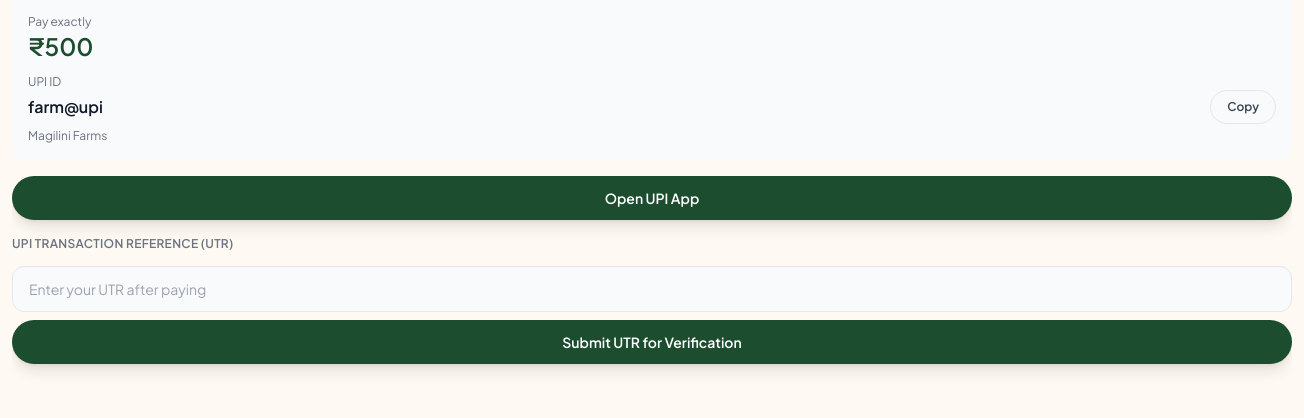
DirectUpiPayment › validates UTR locally and submits a valid reference once
Type "123" into the field labelled "UPI transaction reference (UTR)" at [652, 289], box x1=12 y1=266 x2=1292 y2=312
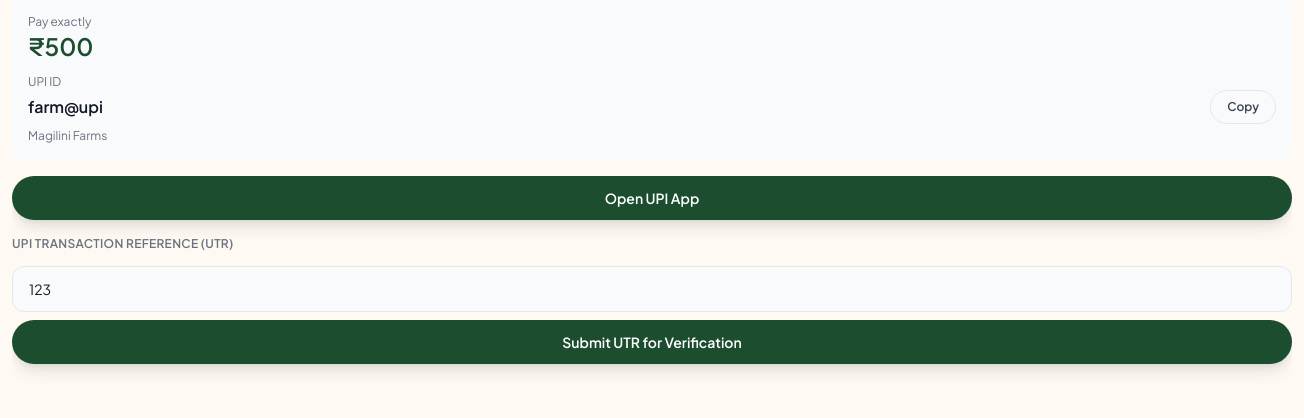
Submit the form, box x1=12 y1=236 x2=1292 y2=364
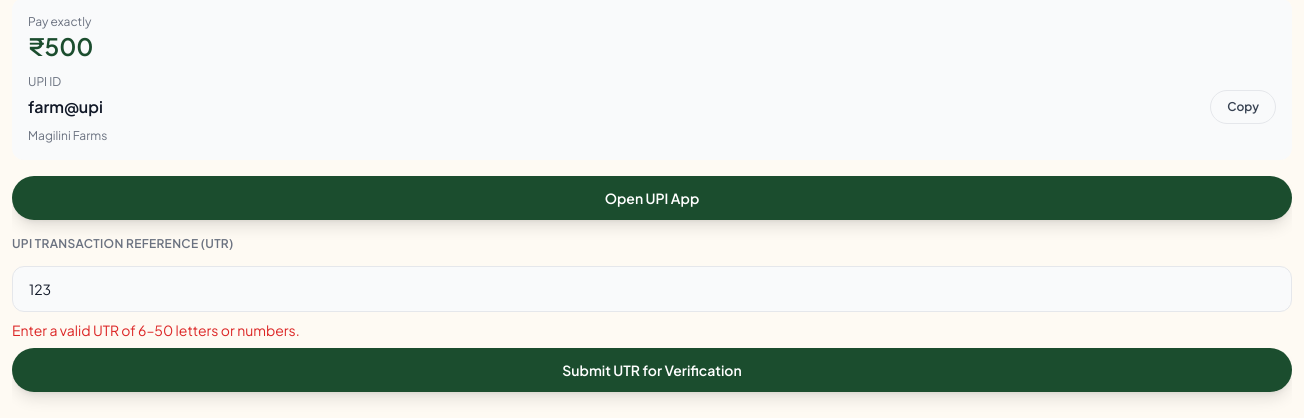
Now the text "valid UTR" is shown, box x1=12 y1=321 x2=300 y2=339
Replace the text in the field labelled "UPI transaction reference (UTR)" with "ABC-12345" at [652, 289], box x1=12 y1=266 x2=1292 y2=312
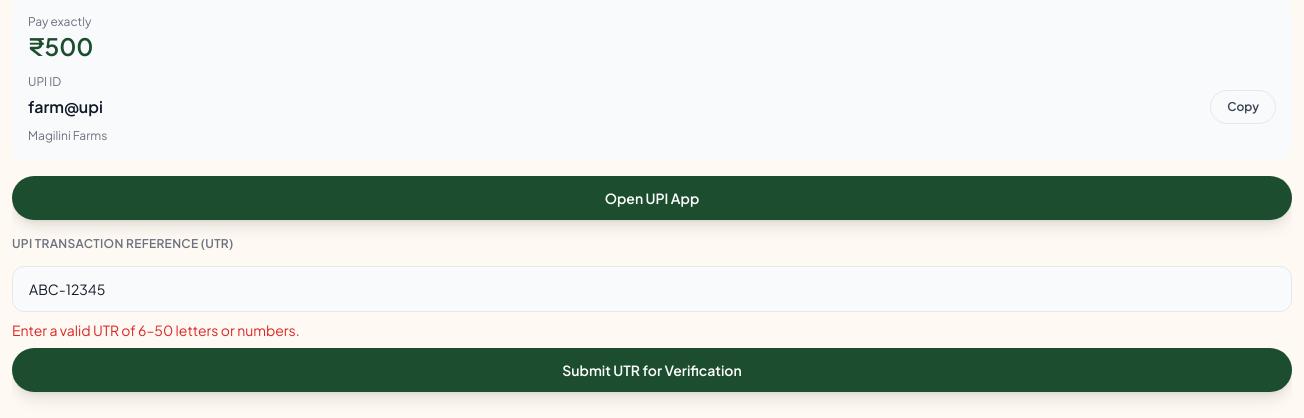
Submit the form, box x1=12 y1=236 x2=1292 y2=392
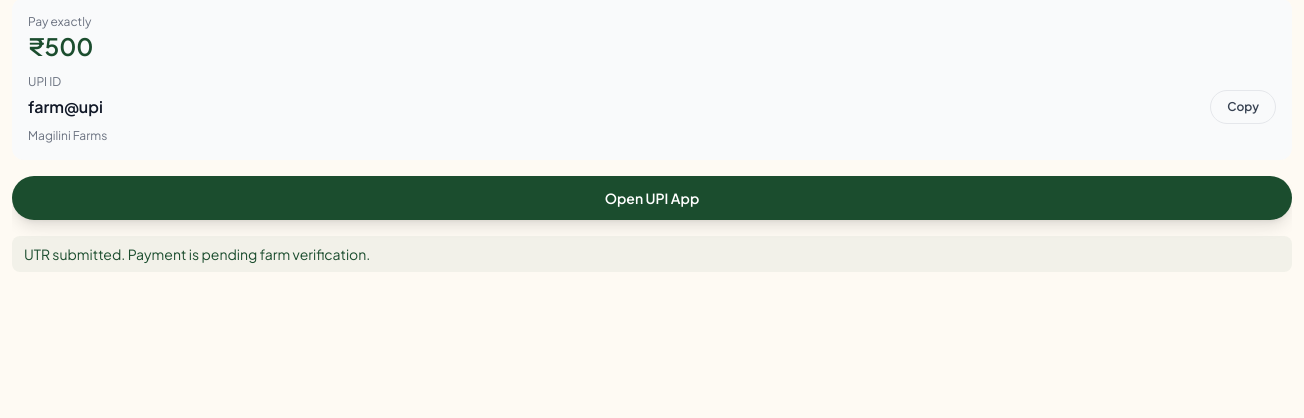
Now the text "submitted. Payment is pending farm verification." is shown, box x1=24 y1=245 x2=370 y2=263
